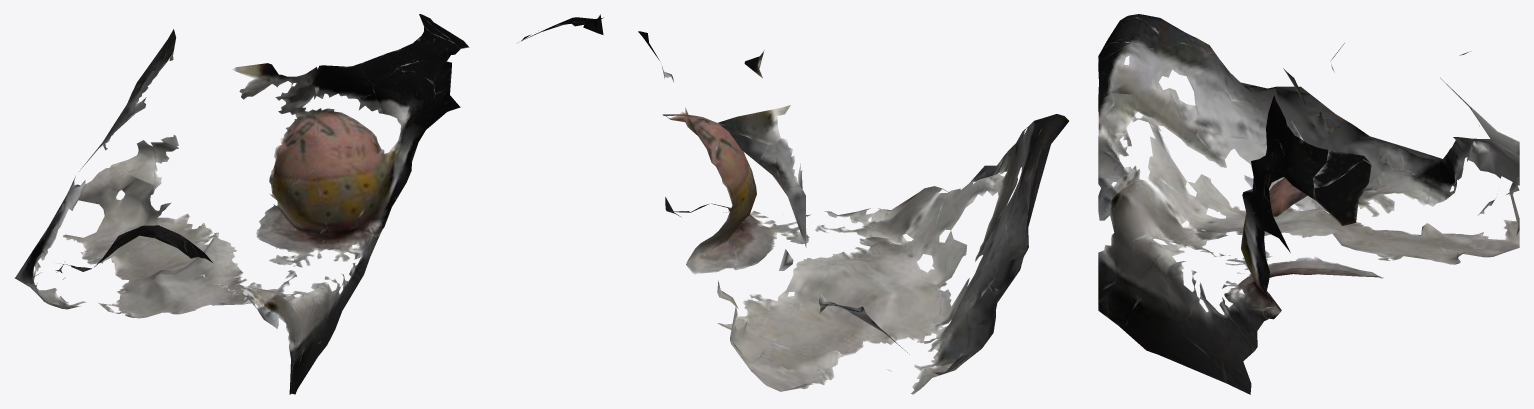
Rendered from hall.glb.
3 views of the same model, side by side, from view 1: azimuth 30°, elevation 25°; view 2: azimuth 150°, elevation 25°; view 3: azimuth 270°, elevation 25° (orthographic). The views are drawn at different scales.
Size of the model in its own units: 0.9132 by 0.5309 by 0.6303.
Materials: 1 (1 with a texture image).
